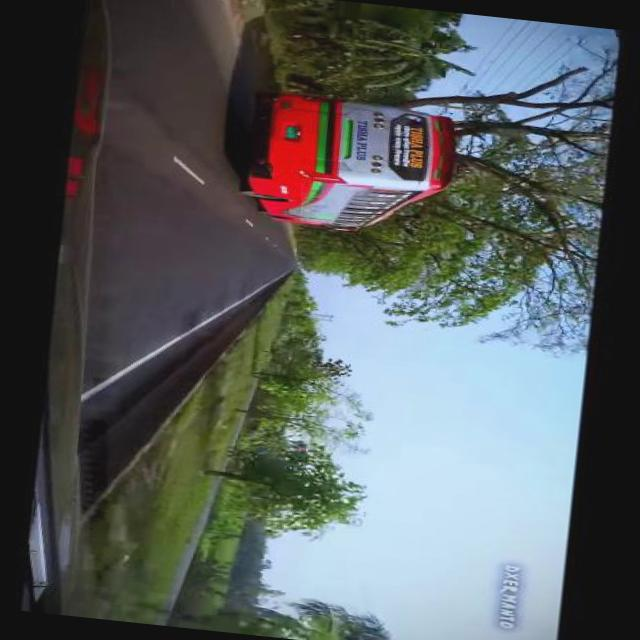bus: (229, 85, 464, 241)
